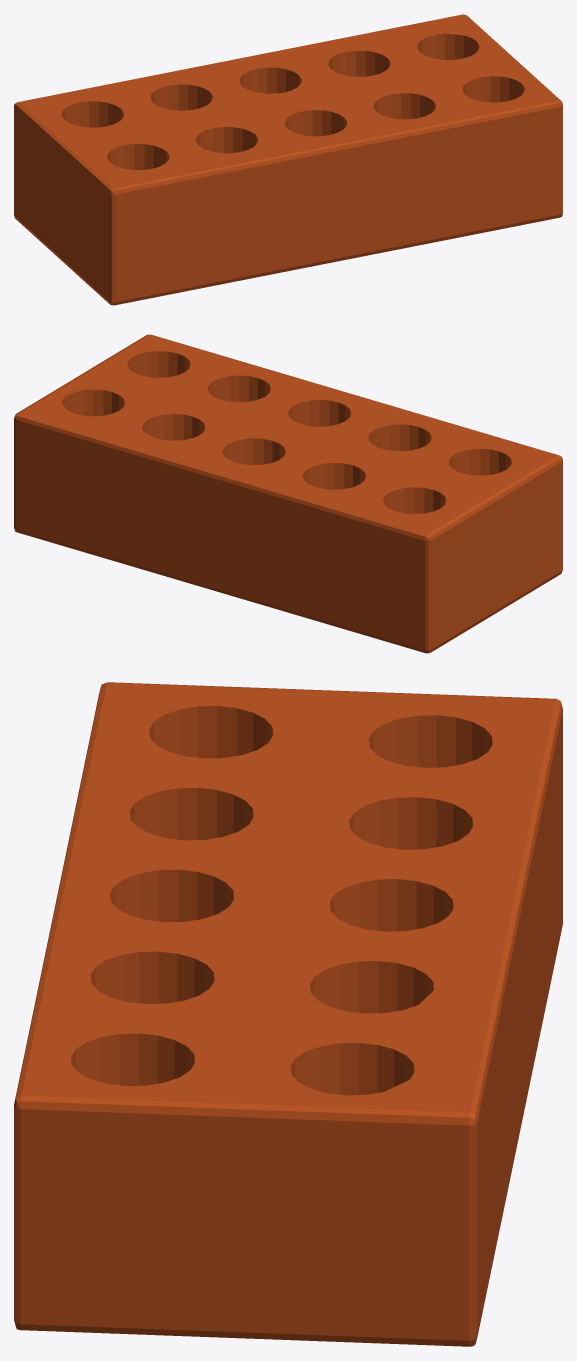
Rendered from 8MWIRnfzcuS.glb.
The picture shows the model from 3 angles, top to bottom: view 1: azimuth 30°, elevation 25°; view 2: azimuth 150°, elevation 25°; view 3: azimuth 270°, elevation 25°; orthographic projection. The views are drawn at different scales.
Parts seen in each view (by area): view 1: Box001; view 2: Box001; view 3: Box001.
Boxes of the visible parts, bbox=[...] form: Box001: bbox=[14, 14, 562, 305]; Box001: bbox=[14, 334, 562, 653]; Box001: bbox=[14, 682, 562, 1346].
Size of the model in its own units: 4.01 by 1 by 2.13.
